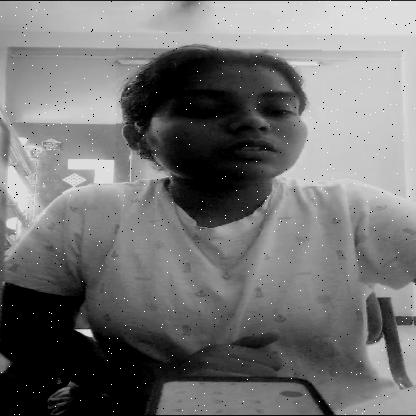Distracted: (116, 41, 322, 182)
